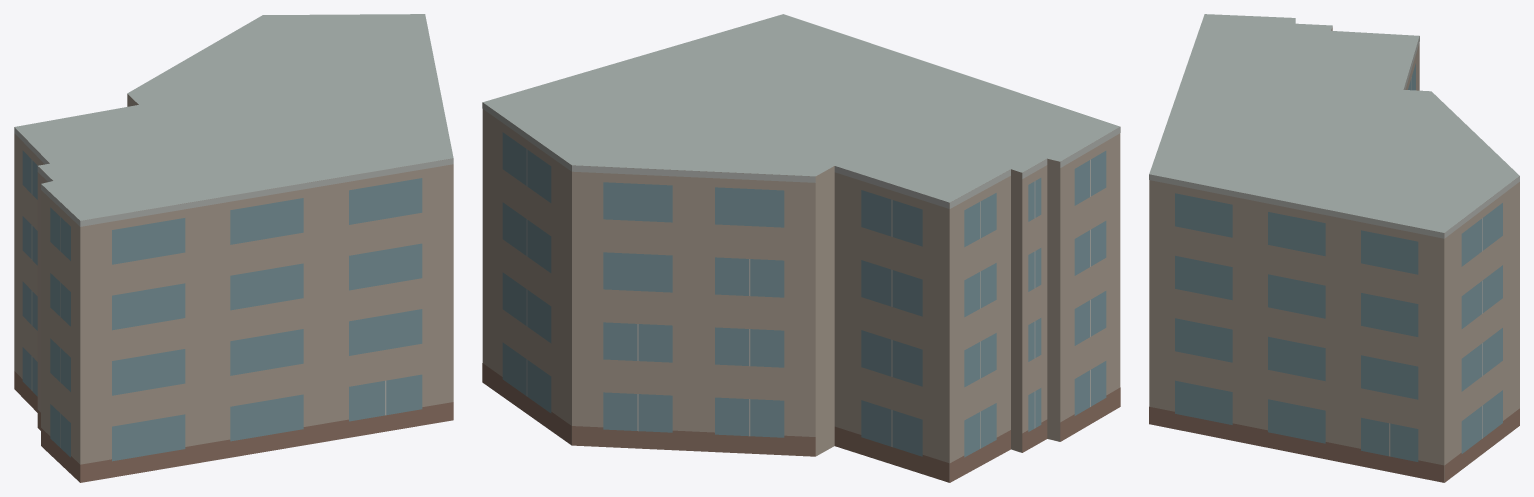
Rendered from survey-upis-32525605.glb.
The picture shows the model from 3 angles, left to right: view 1: azimuth 30°, elevation 25°; view 2: azimuth 150°, elevation 25°; view 3: azimuth 270°, elevation 25°; orthographic projection. The views are drawn at different scales.
Parts seen in each view (by area): view 1: survey-upis-32525605.tmp; view 2: survey-upis-32525605.tmp; view 3: survey-upis-32525605.tmp.
Part boxes in pixels (x1,y1,x2,y2): survey-upis-32525605.tmp: (14,14,453,482); survey-upis-32525605.tmp: (482,14,1120,482); survey-upis-32525605.tmp: (1149,14,1519,482).
Size of the model in its own units: 19.93 by 10.6 by 14.26.
